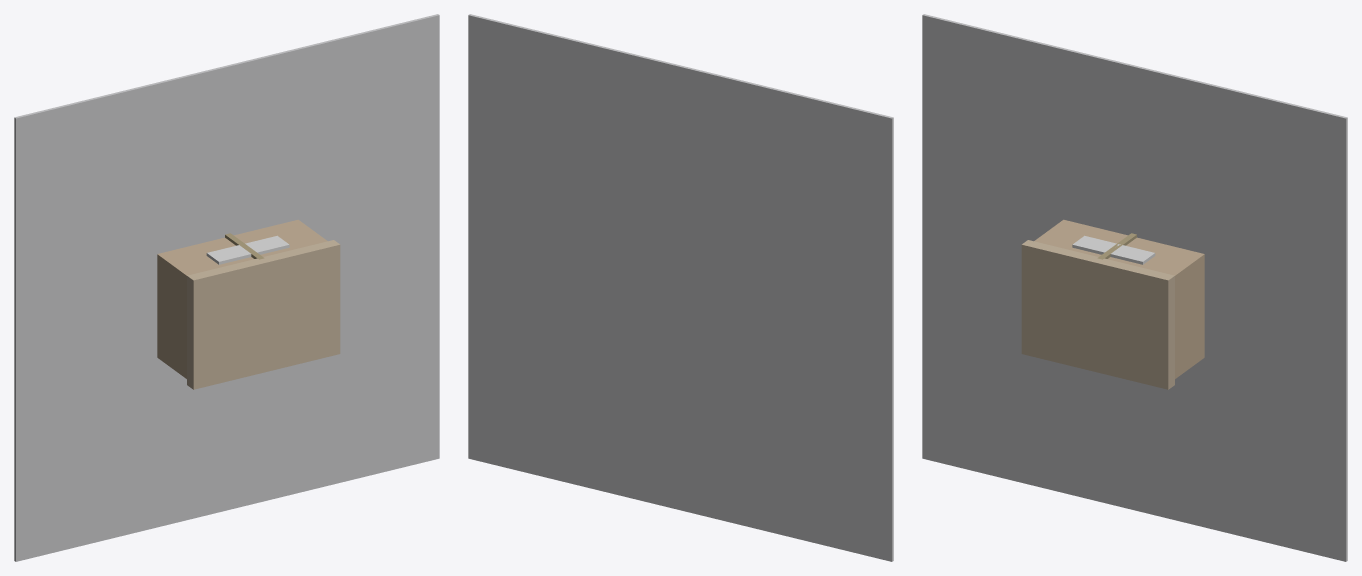
Rendered from scanbox_box.glb.
The picture shows the model from 3 angles, left to right: view 1: azimuth 30°, elevation 25°; view 2: azimuth 150°, elevation 25°; view 3: azimuth 330°, elevation 25°; orthographic projection.
Visible parts, largest first — view 1: ground, box_lid, box_body, label; view 2: ground; view 3: ground, box_lid, box_body, label.
Boxes of the visible parts, x1,y1,x2,y2 form: ground: (14, 14, 439, 561); box_lid: (187, 240, 340, 389); box_body: (157, 219, 327, 378); label: (206, 235, 289, 264); ground: (468, 14, 893, 561); ground: (922, 14, 1347, 561); box_lid: (1021, 240, 1174, 389); box_body: (1034, 219, 1204, 378); label: (1072, 235, 1155, 264).
Size of the model in its own units: 3 by 3 by 0.5.
